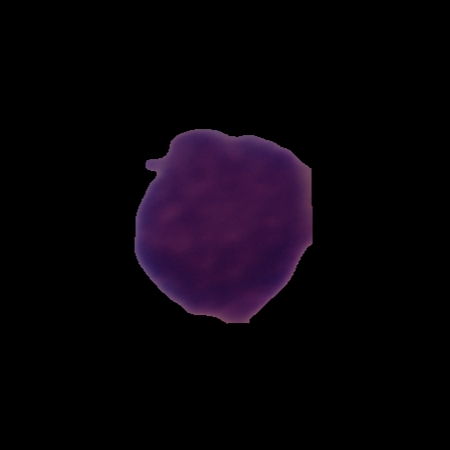HEM: (128, 122, 319, 329)
